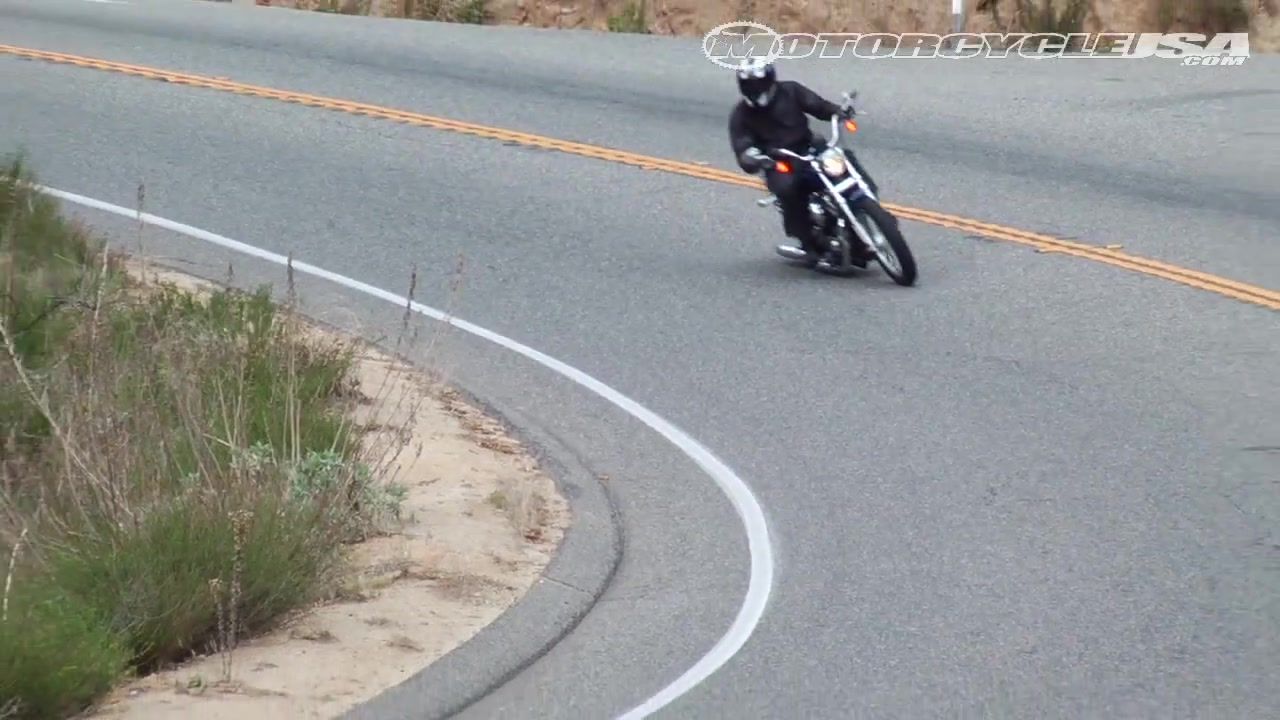motorbike: (741, 90, 920, 288)
